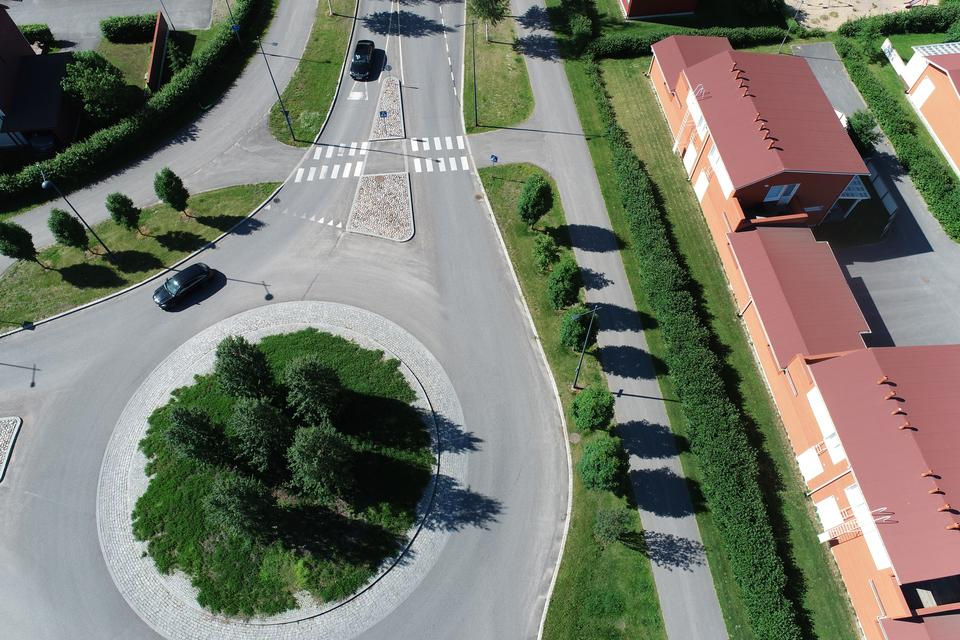intersection: (247, 104, 615, 200)
roundabout: (0, 266, 590, 640)
